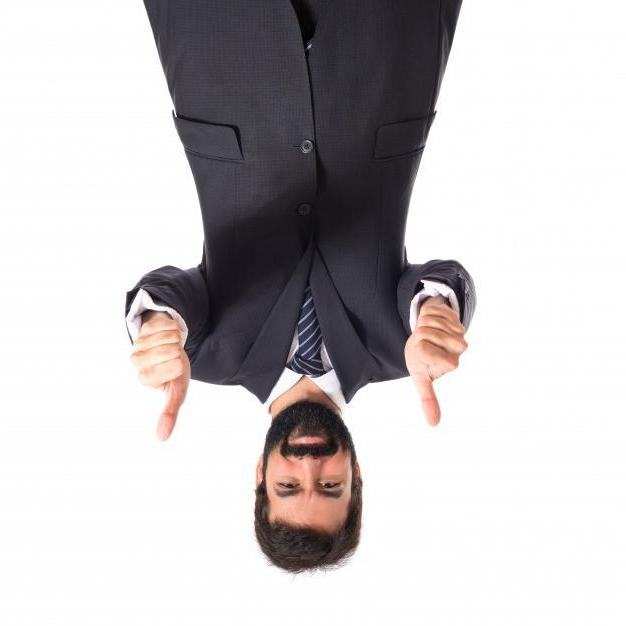thumbsdown: (412, 304, 469, 427), (130, 320, 184, 441)
